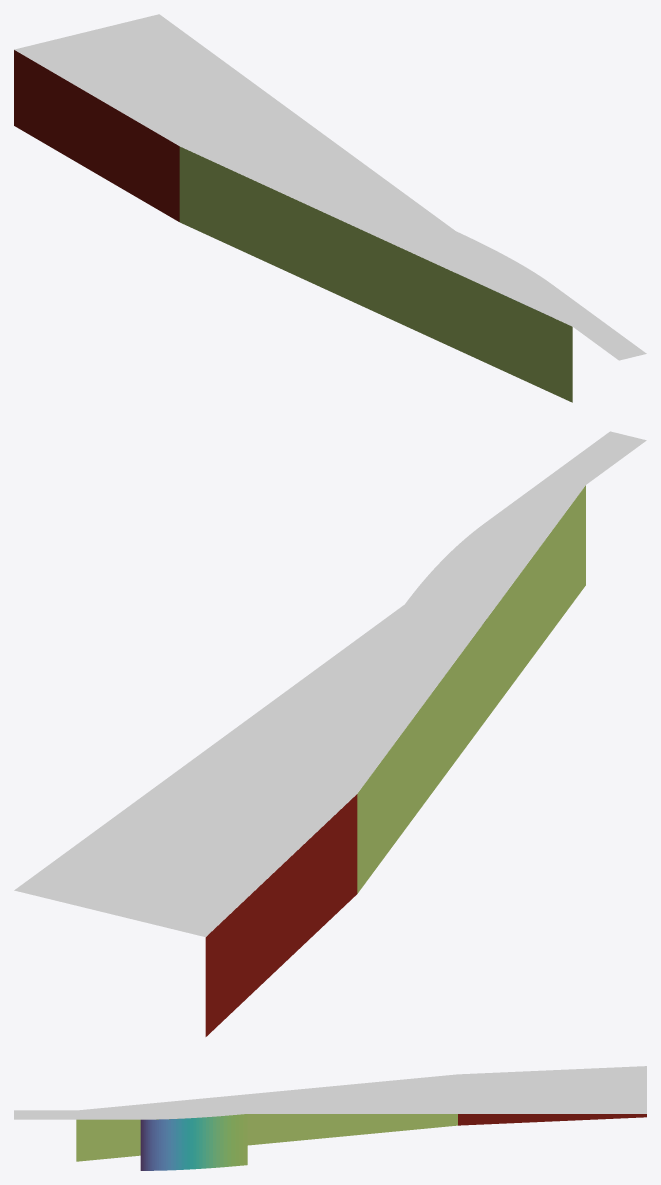
File: scramjet_n2_m38.glb
3 views of the same model, one above another, from view 1: azimuth 30°, elevation 25°; view 2: azimuth 150°, elevation 25°; view 3: azimuth 270°, elevation 25° (orthographic). The views are drawn at different scales.
Visible parts, largest first — view 1: Renderer Node; view 2: Renderer Node; view 3: Renderer Node.
Boxes of the visible parts, x1,y1,x2,y2 form: Renderer Node: (14, 14, 646, 402); Renderer Node: (14, 431, 646, 1036); Renderer Node: (14, 1066, 646, 1170).
Bounding box in the file's own units: 1.12 × 0.5005 × 5.6.
